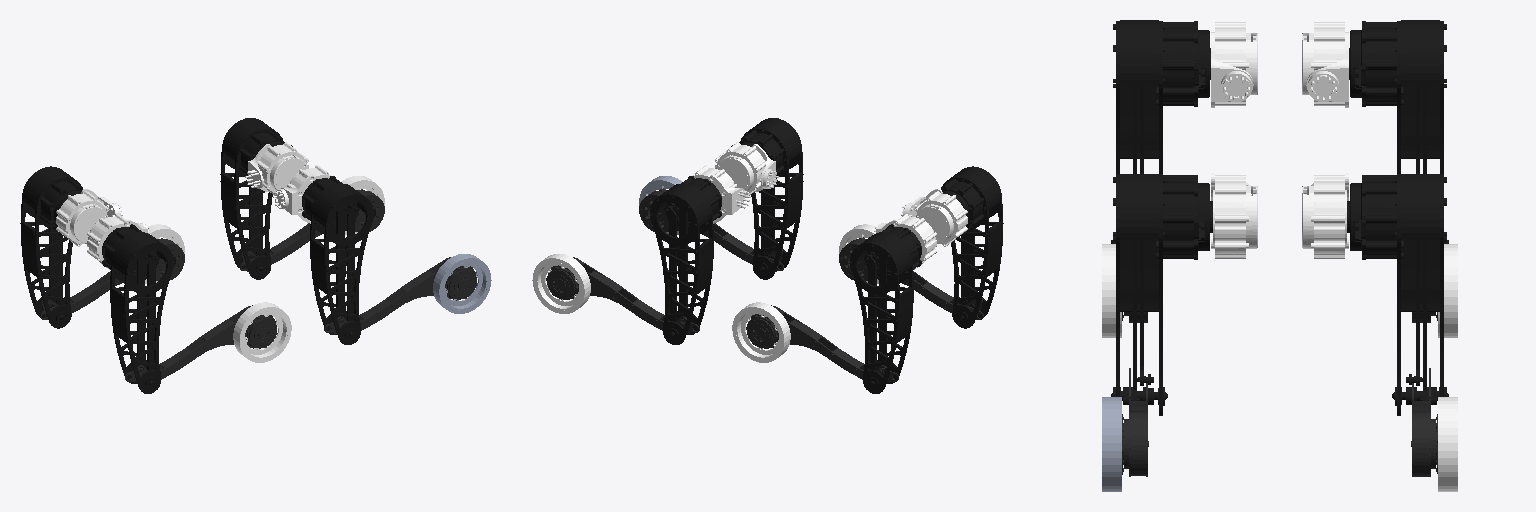
The robot description file, URDF, robot "27dog.SLDASM":
<?xml version="1.0" encoding="utf-8"?>
<!-- This URDF was automatically created by SolidWorks to URDF Exporter! Originally created by Stephen Brawner (brawner@gmail.com) 
     Commit Version: 1.6.0-4-g7f85cfe  Build Version: 1.6.7995.38578
     For more information, please see http://wiki.ros.org/sw_urdf_exporter -->
<robot
  name="27dog.SLDASM">
  <link
    name="base_link">
    <inertial>
      <origin
        xyz="-0.0085 0.0004 0.0002"
        rpy="0 0 0" />
      <mass
        value="7.4172" />
      <inertia
        ixx="0.0366"
        ixy="0.0002"
        ixz="0.0006"
        iyy="0.1024"
        iyz="0.0"
        izz="0.1246" />
    </inertial>
    <visual>
      <origin
        xyz="0 0 0"
        rpy="0 0 0" />
      <geometry>
        <mesh
          filename="../meshes/base_link.STL" />
      </geometry>
      <material
        name="">
        <color
          rgba="0.752941176470588 0.752941176470588 0.752941176470588 1" />
      </material>
    </visual>
    <collision>
      <origin
        xyz="0 0.0005 0.0084"
        rpy="0 0 0" />
      <geometry>
        <box
          size="0.328 0.253 0.1352" />
      </geometry>
    </collision>
  </link>
  <link
    name="FL_hip_link">
    <inertial>
      <origin
        xyz="-0.0055 0.0069 0.0001"
        rpy="0 0 0" />
      <mass
        value="0.9753" />
      <inertia
        ixx="0.0002"
        ixy="0.0"
        ixz="0.0"
        iyy="0.0005"
        iyz="0.0"
        izz="0.0004" />
    </inertial>
    <visual>
      <origin
        xyz="0 0 0"
        rpy="0 0 0" />
      <geometry>
        <mesh
          filename="../meshes/FL_hip_joint.STL" />
      </geometry>
      <material
        name="">
        <color
          rgba="1 1 1 1" />
      </material>
    </visual>
    <collision>
      <origin
        xyz="-0.0149 0.003 0"
        rpy="1.5707963267948966 0 0" />
      <geometry>
        <cylinder
          length="0.0591"
          radius="0.0651" />
      </geometry>
    </collision>
  </link>
  <joint
    name="FL_hip_joint"
    type="revolute">
    <origin
      xyz="0.2295 0.055 0.01"
      rpy="0 0 0" />
    <parent
      link="base_link" />
    <child
      link="FL_hip_link" />
    <axis
      xyz="1 0 0" />
    <limit lower="-0.9773843811168246" upper="0.9773843811168246" effort="53.5" velocity="11" />
  </joint>
  <link
    name="FL_thigh_link">
    <inertial>
      <origin
        xyz="-0.0014 -0.0342 -0.034"
        rpy="0 0 0" />
      <mass
        value="1.697" />
      <inertia
        ixx="0.0123"
        ixy="0.0001"
        ixz="-0.0002"
        iyy="0.0114"
        iyz="0.002"
        izz="0.0022" />
    </inertial>
    <visual>
      <origin
        xyz="0 0 0"
        rpy="0 0 0" />
      <geometry>
        <mesh
          filename="../meshes/FL_thigh_joint.STL" />
      </geometry>
      <material
        name="">
        <color
          rgba="0.14902 0.14902 0.14902 1" />
      </material>
    </visual>
    <collision>
      <origin
        xyz="-0.010 0 -0.165"
        rpy="0 0 0" />
      <geometry>
        <box
          size="0.096 0.072 0.220" />
      </geometry>
    </collision>
    <collision>
      <origin
        xyz="-0.001 0 0"
        rpy="1.5707963267948966 0 0" />
      <geometry>
        <cylinder
          length="0.066"
          radius="0.056" />
      </geometry>
    </collision>
  </link>
  <joint
    name="FL_thigh_joint"
    type="revolute">
    <origin
      xyz="0 0.1231 0"
      rpy="0 0 0" />
    <parent
      link="FL_hip_link" />
    <child
      link="FL_thigh_link" />
    <axis
      xyz="0 1 0" />
    <limit lower="-1.0471975511965976" upper="4.1887902047863905" effort="53.5" velocity="11" />
  </joint>
  <link
    name="FL_calf_link">
    <inertial>
      <origin
        xyz="0.0007 0.0218 -0.2452"
        rpy="0 0 0" />
      <mass
        value="0.5191" />
      <inertia
        ixx="0.0013"
        ixy="0.0"
        ixz="0.0"
        iyy="0.0013"
        iyz="0.0002"
        izz="0.0002" />
    </inertial>
    <visual>
      <origin
        xyz="0 0 0"
        rpy="0 0 0" />
      <geometry>
        <mesh
          filename="../meshes/FL_calf_joint.STL" />
      </geometry>
      <material
        name="">
        <color
          rgba="0.223529411764706 0.223529411764706 0.223529411764706 1" />
      </material>
    </visual>
    <collision>
      <origin
        xyz="0.0085 0 -0.090"
        rpy="0 0 0" />
      <geometry>
        <box
          size="0.054 0.025 0.250" />
      </geometry>
    </collision>
    <collision>
      <origin
        xyz="0 0.0136 -0.258"
        rpy="0 0 0" />
      <geometry>
        <box
          size="0.082 0.0531 0.086" />
      </geometry>
    </collision>
  </link>
  <joint
    name="FL_calf_joint"
    type="revolute">
    <origin
      xyz="0 0.001 -0.25"
      rpy="0 0 0" />
    <parent
      link="FL_thigh_link" />
    <child
      link="FL_calf_link" />
    <axis
      xyz="0 1 0" />
    <limit lower="-2.8012534494508987" upper="-0.7417649320975901" effort="53.5" velocity="11" />
  </joint>
  <link
    name="FL_feet_link">
    <inertial>
      <origin
        xyz="0.0 0.0321 0.0"
        rpy="0 0 0" />
      <mass
        value="0.185" />
      <inertia
        ixx="0.0003"
        ixy="0.0"
        ixz="0.0"
        iyy="0.0005"
        iyz="0.0"
        izz="0.0003" />
    </inertial>
    <visual>
      <origin
        xyz="0 0 0"
        rpy="0 0 0" />
      <geometry>
        <mesh
          filename="../meshes/FL_feet_joint.STL" />
      </geometry>
      <material
        name="">
        <color
          rgba="1 1 1 1" />
      </material>
    </visual>
    <collision>
      <origin
        xyz="0 0.0332 0"
        rpy="1.5707963267948966 0 0" />
      <geometry>
        <cylinder
          length="0.025"
          radius="0.060" />
      </geometry>
    </collision>
  </link>
  <joint
    name="FL_feet_joint"
    type="continuous">
    <origin
      xyz="0 0 -0.26"
      rpy="0 0 0" />
    <parent
      link="FL_calf_link" />
    <child
      link="FL_feet_link" />
    <axis
      xyz="0 1 0" />
    <limit
      effort="3.69"
      velocity="61.470496255240" />
  </joint>
  <link
    name="FR_hip_link">
    <inertial>
      <origin
        xyz="-0.0055 -0.0069 0.0001"
        rpy="0 0 0" />
      <mass
        value="0.9753" />
      <inertia
        ixx="0.0002"
        ixy="-0.0"
        ixz="0.0"
        iyy="0.0005"
        iyz="-0.0"
        izz="0.0004" />
    </inertial>
    <visual>
      <origin
        xyz="0 0 0"
        rpy="0 0 0" />
      <geometry>
        <mesh
          filename="../meshes/FR_hip_joint.STL" />
      </geometry>
      <material
        name="">
        <color
          rgba="1 1 1 1" />
      </material>
    </visual>
    <collision>
      <origin
        xyz="-0.0149 -0.003 0"
        rpy="1.5707963267948966 0 0" />
      <geometry>
        <cylinder
          length="0.0591"
          radius="0.0651" />
      </geometry>
    </collision>
  </link>
  <joint
    name="FR_hip_joint"
    type="revolute">
    <origin
      xyz="0.2295 -0.055 0.01"
      rpy="0 0 0" />
    <parent
      link="base_link" />
    <child
      link="FR_hip_link" />
    <axis
      xyz="1 0 0" />
    <limit lower="-0.9773843811168246" upper="0.9773843811168246" effort="53.5" velocity="11" />
  </joint>
  <link
    name="FR_thigh_link">
    <inertial>
      <origin
        xyz="-0.0014 0.0342 -0.034"
        rpy="0 0 0" />
      <mass
        value="1.697" />
      <inertia
        ixx="0.0123"
        ixy="-0.0001"
        ixz="-0.0002"
        iyy="0.0114"
        iyz="-0.002"
        izz="0.0022" />
    </inertial>
    <visual>
      <origin
        xyz="0 0 0"
        rpy="0 0 0" />
      <geometry>
        <mesh
          filename="../meshes/FR_thigh_joint.STL" />
      </geometry>
      <material
        name="">
        <color
          rgba="0.149019607843137 0.149019607843137 0.149019607843137 1" />
      </material>
    </visual>
    <collision>
      <origin
        xyz="-0.010 0 -0.165"
        rpy="0 0 0" />
      <geometry>
        <box
          size="0.096 0.072 0.220" />
      </geometry>
    </collision>
    <collision>
      <origin
        xyz="-0.001 0 0"
        rpy="1.5707963267948966 0 0" />
      <geometry>
        <cylinder
          length="0.066"
          radius="0.056" />
      </geometry>
    </collision>
  </link>
  <joint
    name="FR_thigh_joint"
    type="revolute">
    <origin
      xyz="0 -0.1231 0"
      rpy="0 0 0" />
    <parent
      link="FR_hip_link" />
    <child
      link="FR_thigh_link" />
    <axis
      xyz="0 1 0" />
    <limit lower="-1.0471975511965976" upper="4.1887902047863905" effort="53.5" velocity="11" />
  </joint>
  <link
    name="FR_calf_link">
    <inertial>
      <origin
        xyz="0.0007 -0.0218 -0.2452"
        rpy="0 0 0" />
      <mass
        value="0.5191" />
      <inertia
        ixx="0.0013"
        ixy="-0.0"
        ixz="0.0"
        iyy="0.0013"
        iyz="-0.0002"
        izz="0.0002" />
    </inertial>
    <visual>
      <origin
        xyz="0 0 0"
        rpy="0 0 0" />
      <geometry>
        <mesh
          filename="../meshes/FR_calf_joint.STL" />
      </geometry>
      <material
        name="">
        <color
          rgba="0.223529411764706 0.223529411764706 0.223529411764706 1" />
      </material>
    </visual>
    <collision>
      <origin
        xyz="0.0085 0 -0.090"
        rpy="0 0 0" />
      <geometry>
        <box
          size="0.054 0.025 0.250" />
      </geometry>
    </collision>
    <collision>
      <origin
        xyz="0 -0.0136 -0.258"
        rpy="0 0 0" />
      <geometry>
        <box
          size="0.082 0.0531 0.086" />
      </geometry>
    </collision>
  </link>
  <joint
    name="FR_calf_joint"
    type="revolute">
    <origin
      xyz="0 -0.001 -0.25"
      rpy="0 0 0" />
    <parent
      link="FR_thigh_link" />
    <child
      link="FR_calf_link" />
    <axis
      xyz="0 1 0" />
    <limit lower="-2.8012534494508987" upper="-0.7417649320975901" effort="53.5" velocity="11" />
  </joint>
  <link
    name="FR_feet_link">
    <inertial>
      <origin
        xyz="0.0 -0.0321 0.0"
        rpy="0 0 0" />
      <mass
        value="0.185" />
      <inertia
        ixx="0.0003"
        ixy="-0.0"
        ixz="0.0"
        iyy="0.0005"
        iyz="-0.0"
        izz="0.0003" />
    </inertial>
    <visual>
      <origin
        xyz="0 0 0"
        rpy="0 0 0" />
      <geometry>
        <mesh
          filename="../meshes/FR_feet_joint.STL" />
      </geometry>
      <material
        name="">
        <color
          rgba="0.666666666666667 0.698039215686274 0.768627450980392 1" />
      </material>
    </visual>
    <collision>
      <origin
        xyz="0 -0.0332 0"
        rpy="1.5707963267948966 0 0" />
      <geometry>
        <cylinder
          length="0.025"
          radius="0.060" />
      </geometry>
    </collision>
  </link>
  <joint
    name="FR_feet_joint"
    type="continuous">
    <origin
      xyz="0 0 -0.26"
      rpy="0 0 0" />
    <parent
      link="FR_calf_link" />
    <child
      link="FR_feet_link" />
    <axis
      xyz="0 1 0" />
    <limit
      effort="3.69"
      velocity="61.470496255240" />
  </joint>
  <link
    name="RL_hip_link">
    <inertial>
      <origin
        xyz="0.0055 0.0069 -0.0001"
        rpy="0 0 0" />
      <mass
        value="0.9753" />
      <inertia
        ixx="0.0002"
        ixy="0.0"
        ixz="0.0"
        iyy="0.0005"
        iyz="0.0"
        izz="0.0004" />
    </inertial>
    <visual>
      <origin
        xyz="0 0 0"
        rpy="0 0 0" />
      <geometry>
        <mesh
          filename="../meshes/RL_hip_joint.STL" />
      </geometry>
      <material
        name="">
        <color
          rgba="1 1 1 1" />
      </material>
    </visual>
    <collision>
      <origin
        xyz="0.0149 0.003 0"
        rpy="1.5707963267948966 0 0" />
      <geometry>
        <cylinder
          length="0.0591"
          radius="0.0651" />
      </geometry>
    </collision>
  </link>
  <joint
    name="RL_hip_joint"
    type="revolute">
    <origin
      xyz="-0.2295 0.055 0.01"
      rpy="0 0 0" />
    <parent
      link="base_link" />
    <child
      link="RL_hip_link" />
    <axis
      xyz="1 0 0" />
    <limit lower="-0.9773843811168246" upper="0.9773843811168246" effort="53.5" velocity="11" />
  </joint>
  <link
    name="RL_thigh_link">
    <inertial>
      <origin
        xyz="-0.0014 -0.0342 -0.034"
        rpy="0 0 0" />
      <mass
        value="1.697" />
      <inertia
        ixx="0.0123"
        ixy="0.0001"
        ixz="-0.0002"
        iyy="0.0114"
        iyz="0.002"
        izz="0.0022" />
    </inertial>
    <visual>
      <origin
        xyz="0 0 0"
        rpy="0 0 0" />
      <geometry>
        <mesh
          filename="../meshes/RL_thigh_joint.STL" />
      </geometry>
      <material
        name="">
        <color
          rgba="0.149019607843137 0.149019607843137 0.149019607843137 1" />
      </material>
    </visual>
    <collision>
      <origin
        xyz="-0.010 0 -0.165"
        rpy="0 0 0" />
      <geometry>
        <box
          size="0.096 0.072 0.220" />
      </geometry>
    </collision>
    <collision>
      <origin
        xyz="-0.001 0 0"
        rpy="1.5707963267948966 0 0" />
      <geometry>
        <cylinder
          length="0.066"
          radius="0.056" />
      </geometry>
    </collision>
  </link>
  <joint
    name="RL_thigh_joint"
    type="revolute">
    <origin
      xyz="0 0.1231 0"
      rpy="0 0 0" />
    <parent
      link="RL_hip_link" />
    <child
      link="RL_thigh_link" />
    <axis
      xyz="0 1 0" />
    <limit lower="-1.0471975511965976" upper="4.1887902047863905" effort="53.5" velocity="11" />
  </joint>
  <link
    name="RL_calf_link">
    <inertial>
      <origin
        xyz="0.0007 0.0218 -0.2452"
        rpy="0 0 0" />
      <mass
        value="0.5191" />
      <inertia
        ixx="0.0013"
        ixy="0.0"
        ixz="0.0"
        iyy="0.0013"
        iyz="0.0002"
        izz="0.0002" />
    </inertial>
    <visual>
      <origin
        xyz="0 0 0"
        rpy="0 0 0" />
      <geometry>
        <mesh
          filename="../meshes/RL_calf_joint.STL" />
      </geometry>
      <material
        name="">
        <color
          rgba="0.223529411764706 0.223529411764706 0.223529411764706 1" />
      </material>
    </visual>
    <collision>
      <origin
        xyz="0.0085 0 -0.090"
        rpy="0 0 0" />
      <geometry>
        <box
          size="0.054 0.025 0.250" />
      </geometry>
    </collision>
    <collision>
      <origin
        xyz="0 0.0136 -0.258"
        rpy="0 0 0" />
      <geometry>
        <box
          size="0.082 0.0531 0.086" />
      </geometry>
    </collision>
  </link>
  <joint
    name="RL_calf_joint"
    type="revolute">
    <origin
      xyz="0 0.001 -0.25"
      rpy="0 0 0" />
    <parent
      link="RL_thigh_link" />
    <child
      link="RL_calf_link" />
    <axis
      xyz="0 1 0" />
    <limit lower="-2.8012534494508987" upper="-0.7417649320975901" effort="53.5" velocity="11" />
  </joint>
  <link
    name="RL_feet_link">
    <inertial>
      <origin
        xyz="0.0 0.0321 0.0"
        rpy="0 0 0" />
      <mass
        value="0.185" />
      <inertia
        ixx="0.0003"
        ixy="0.0"
        ixz="0.0"
        iyy="0.0005"
        iyz="0.0"
        izz="0.0003" />
    </inertial>
    <visual>
      <origin
        xyz="0 0 0"
        rpy="0 0 0" />
      <geometry>
        <mesh
          filename="../meshes/RL_feet_joint.STL" />
      </geometry>
      <material
        name="">
        <color
          rgba="1 1 1 1" />
      </material>
    </visual>
    <collision>
      <origin
        xyz="0 0.0332 0"
        rpy="1.5707963267948966 0 0" />
      <geometry>
        <cylinder
          length="0.025"
          radius="0.060" />
      </geometry>
    </collision>
  </link>
  <joint
    name="RL_feet_joint"
    type="continuous">
    <origin
      xyz="0 0 -0.26"
      rpy="0 0 0" />
    <parent
      link="RL_calf_link" />
    <child
      link="RL_feet_link" />
    <axis
      xyz="0 1 0" />
    <limit
      effort="3.69"
      velocity="61.470496255240" />
  </joint>
  <link
    name="RR_hip_link">
    <inertial>
      <origin
        xyz="0.0055 -0.0069 -0.0001"
        rpy="0 0 0" />
      <mass
        value="0.9753" />
      <inertia
        ixx="0.0002"
        ixy="-0.0"
        ixz="0.0"
        iyy="0.0005"
        iyz="-0.0"
        izz="0.0004" />
    </inertial>
    <visual>
      <origin
        xyz="0 0 0"
        rpy="0 0 0" />
      <geometry>
        <mesh
          filename="../meshes/RR_hip_joint.STL" />
      </geometry>
      <material
        name="">
        <color
          rgba="1 1 1 1" />
      </material>
    </visual>
    <collision>
      <origin
        xyz="0.0149 -0.003 0"
        rpy="1.5707963267948966 0 0" />
      <geometry>
        <cylinder
          length="0.0591"
          radius="0.0651" />
      </geometry>
    </collision>
  </link>
  <joint
    name="RR_hip_joint"
    type="revolute">
    <origin
      xyz="-0.2295 -0.055 0.01"
      rpy="0 0 0" />
    <parent
      link="base_link" />
    <child
      link="RR_hip_link" />
    <axis
      xyz="1 0 0" />
    <limit lower="-0.9773843811168246" upper="0.9773843811168246" effort="53.5" velocity="11" />
  </joint>
  <link
    name="RR_thigh_link">
    <inertial>
      <origin
        xyz="-0.0014 0.0342 -0.034"
        rpy="0 0 0" />
      <mass
        value="1.697" />
      <inertia
        ixx="0.0123"
        ixy="-0.0001"
        ixz="-0.0002"
        iyy="0.0114"
        iyz="-0.002"
        izz="0.0022" />
    </inertial>
    <visual>
      <origin
        xyz="0 0 0"
        rpy="0 0 0" />
      <geometry>
        <mesh
          filename="../meshes/RR_thigh_joint.STL" />
      </geometry>
      <material
        name="">
        <color
          rgba="0.149019607843137 0.149019607843137 0.149019607843137 1" />
      </material>
    </visual>
    <collision>
      <origin
        xyz="-0.010 0 -0.165"
        rpy="0 0 0" />
      <geometry>
        <box
          size="0.096 0.072 0.220" />
      </geometry>
    </collision>
    <collision>
      <origin
        xyz="-0.001 0 0"
        rpy="1.5707963267948966 0 0" />
      <geometry>
        <cylinder
          length="0.066"
          radius="0.056" />
      </geometry>
    </collision>
  </link>
  <joint
    name="RR_thigh_joint"
    type="revolute">
    <origin
      xyz="0 -0.1231 0"
      rpy="0 0 0" />
    <parent
      link="RR_hip_link" />
    <child
      link="RR_thigh_link" />
    <axis
      xyz="0 1 0" />
    <limit lower="-1.0471975511965976" upper="4.1887902047863905" effort="53.5" velocity="11" />
  </joint>
  <link
    name="RR_calf_link">
    <inertial>
      <origin
        xyz="0.0007 -0.0218 -0.2452"
        rpy="0 0 0" />
      <mass
        value="0.5191" />
      <inertia
        ixx="0.0013"
        ixy="-0.0"
        ixz="0.0"
        iyy="0.0013"
        iyz="-0.0002"
        izz="0.0002" />
    </inertial>
    <visual>
      <origin
        xyz="0 0 0"
        rpy="0 0 0" />
      <geometry>
        <mesh
          filename="../meshes/RR_calf_joint.STL" />
      </geometry>
      <material
        name="">
        <color
          rgba="0.223529411764706 0.223529411764706 0.223529411764706 1" />
      </material>
    </visual>
    <collision>
      <origin
        xyz="0.0085 0 -0.090"
        rpy="0 0 0" />
      <geometry>
        <box
          size="0.054 0.025 0.250" />
      </geometry>
    </collision>
    <collision>
      <origin
        xyz="0 -0.0136 -0.258"
        rpy="0 0 0" />
      <geometry>
        <box
          size="0.082 0.0531 0.086" />
      </geometry>
    </collision>
  </link>
  <joint
    name="RR_calf_joint"
    type="revolute">
    <origin
      xyz="0 -0.001 -0.25"
      rpy="0 0 0" />
    <parent
      link="RR_thigh_link" />
    <child
      link="RR_calf_link" />
    <axis
      xyz="0 1 0" />
    <limit lower="-2.8012534494508987" upper="-0.7417649320975901" effort="53.5" velocity="11" />
  </joint>
  <link
    name="RR_feet_link">
    <inertial>
      <origin
        xyz="0.0 -0.0321 0.0"
        rpy="0 0 0" />
      <mass
        value="0.185" />
      <inertia
        ixx="0.0003"
        ixy="-0.0"
        ixz="0.0"
        iyy="0.0005"
        iyz="-0.0"
        izz="0.0003" />
    </inertial>
    <visual>
      <origin
        xyz="0 0 0"
        rpy="0 0 0" />
      <geometry>
        <mesh
          filename="../meshes/RR_feet_joint.STL" />
      </geometry>
      <material
        name="">
        <color
          rgba="1 1 1 1" />
      </material>
    </visual>
    <collision>
      <origin
        xyz="0 -0.0332 0"
        rpy="1.5707963267948966 0 0" />
      <geometry>
        <cylinder
          length="0.025"
          radius="0.060" />
      </geometry>
    </collision>
  </link>
  <joint
    name="RR_feet_joint"
    type="continuous">
    <origin
      xyz="0 0 -0.26"
      rpy="0 0 0" />
    <parent
      link="RR_calf_link" />
    <child
      link="RR_feet_link" />
    <axis
      xyz="0 1 0" />
    <limit
      effort="3.69"
      velocity="61.470496255240" />
  </joint>
</robot>

--- What the picture shows (computed from the rendered views, not written in the file) ---
3 views of the same robot in one strip: view 1: azimuth 30°, elevation 25°; view 2: azimuth 150°, elevation 25°; view 3: azimuth 270°, elevation 25° (orthographic).
Robot: 27dog.SLDASM — 17 links, 16 joints (12 revolute, 4 continuous); root link base_link; default pose: joints at zero except 4 at the middle of their limits (FL_calf_joint = -1.77, FR_calf_joint = -1.77, RL_calf_joint = -1.77, RR_calf_joint = -1.77).
Visible links, largest first — view 1: RR_thigh_link, FR_thigh_link, RL_thigh_link, FL_thigh_link, FR_calf_link, RR_calf_link, FL_hip_link, RL_hip_link, RR_feet_link, FR_feet_link, FL_calf_link, RL_calf_link (+2 smaller); view 2: RL_thigh_link, FL_thigh_link, RR_thigh_link, FR_thigh_link, RL_calf_link, FL_calf_link, FR_hip_link, RR_hip_link, RL_feet_link, FL_feet_link, RR_calf_link, FR_calf_link (+2 smaller); view 3: FL_thigh_link, FR_thigh_link, RL_thigh_link, RR_thigh_link, RL_hip_link, RR_hip_link, FR_hip_link, FL_hip_link, FL_calf_link, FL_feet_link, FR_feet_link, FR_calf_link (+2 smaller).
Boxes of the visible links, box(x1,y1,x2,y2) form: RR_thigh_link: box(102, 224, 174, 393); FR_thigh_link: box(302, 176, 373, 344); RL_thigh_link: box(20, 166, 82, 328); FL_thigh_link: box(220, 118, 292, 279); FR_calf_link: box(324, 257, 476, 333); RR_calf_link: box(125, 305, 277, 381); FL_hip_link: box(245, 142, 308, 195); RL_hip_link: box(56, 189, 122, 246); RR_feet_link: box(233, 302, 291, 362); FR_feet_link: box(433, 254, 491, 313); FL_calf_link: box(240, 189, 384, 271); RL_calf_link: box(40, 238, 184, 319); RL_thigh_link: box(849, 224, 921, 393); FL_thigh_link: box(650, 176, 721, 344); RR_thigh_link: box(941, 166, 1003, 328); FR_thigh_link: box(731, 118, 803, 279); RL_calf_link: box(746, 305, 898, 381); FL_calf_link: box(546, 257, 699, 333); FR_hip_link: box(715, 142, 778, 197); RR_hip_link: box(901, 189, 967, 246); RL_feet_link: box(732, 302, 790, 362); FL_feet_link: box(532, 254, 590, 313); RR_calf_link: box(839, 237, 983, 319); FR_calf_link: box(639, 188, 783, 271); FL_thigh_link: box(1347, 174, 1448, 415); FR_thigh_link: box(1111, 174, 1212, 415); RL_thigh_link: box(1349, 20, 1448, 243); RR_thigh_link: box(1111, 20, 1210, 243); RL_hip_link: box(1302, 22, 1348, 107); RR_hip_link: box(1211, 22, 1257, 107); FR_hip_link: box(1211, 173, 1257, 258); FL_hip_link: box(1302, 173, 1348, 258); FL_calf_link: box(1411, 368, 1437, 476); FL_feet_link: box(1438, 397, 1457, 491); FR_feet_link: box(1102, 397, 1121, 491); FR_calf_link: box(1122, 368, 1148, 476).
Bounding box of the posed robot: 0.8318 × 0.4495 × 0.3299 m (x, y, z).
16 mesh visuals loaded from 17 distinct referenced files (16 binary STL); not drawn: 1 (reference not matched to a file when rendering).
